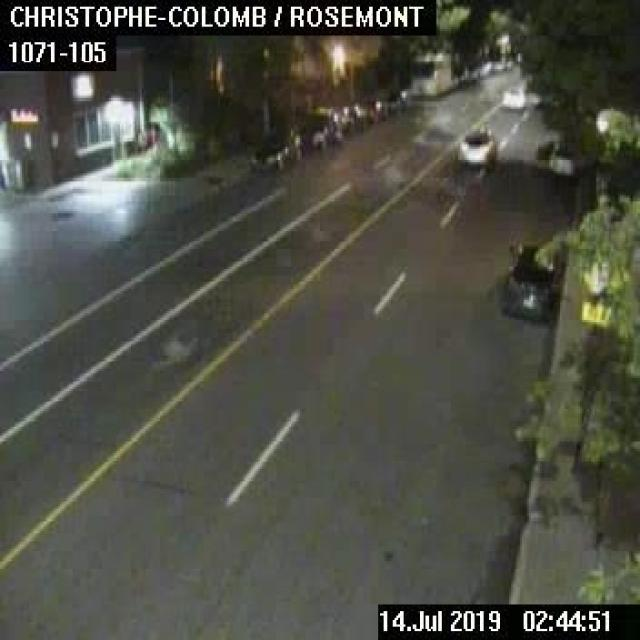vehicle: (500, 238, 560, 321), (250, 129, 301, 173), (410, 50, 449, 94), (534, 138, 574, 176), (302, 106, 335, 151), (457, 125, 494, 164), (341, 103, 367, 133), (500, 84, 524, 109)
